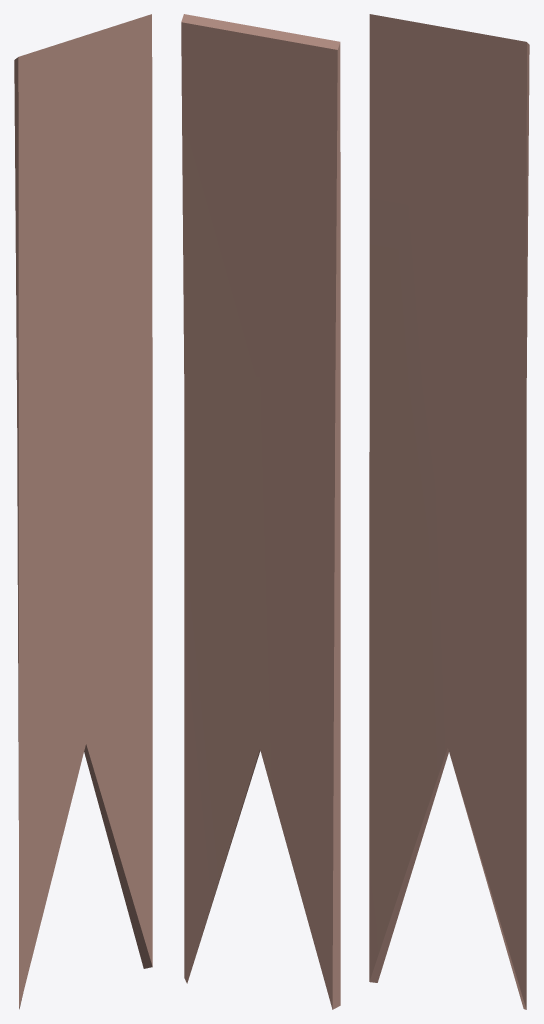
File: Banner_Orange.fbx
The picture shows the model from 3 angles, left to right: view 1: azimuth 30°, elevation 25°; view 2: azimuth 150°, elevation 25°; view 3: azimuth 330°, elevation 25°; orthographic projection.
Visible parts, largest first — view 1: Banner2; view 2: Banner2; view 3: Banner2.
Part boxes in pixels (x1=…): Banner2: x1=14, y1=14, x2=152, y2=1009; Banner2: x1=181, y1=14, x2=340, y2=1009; Banner2: x1=369, y1=14, x2=529, y2=1009.
Bounding box in the file's own units: 1.03 × 6.52 × 0.1778.
